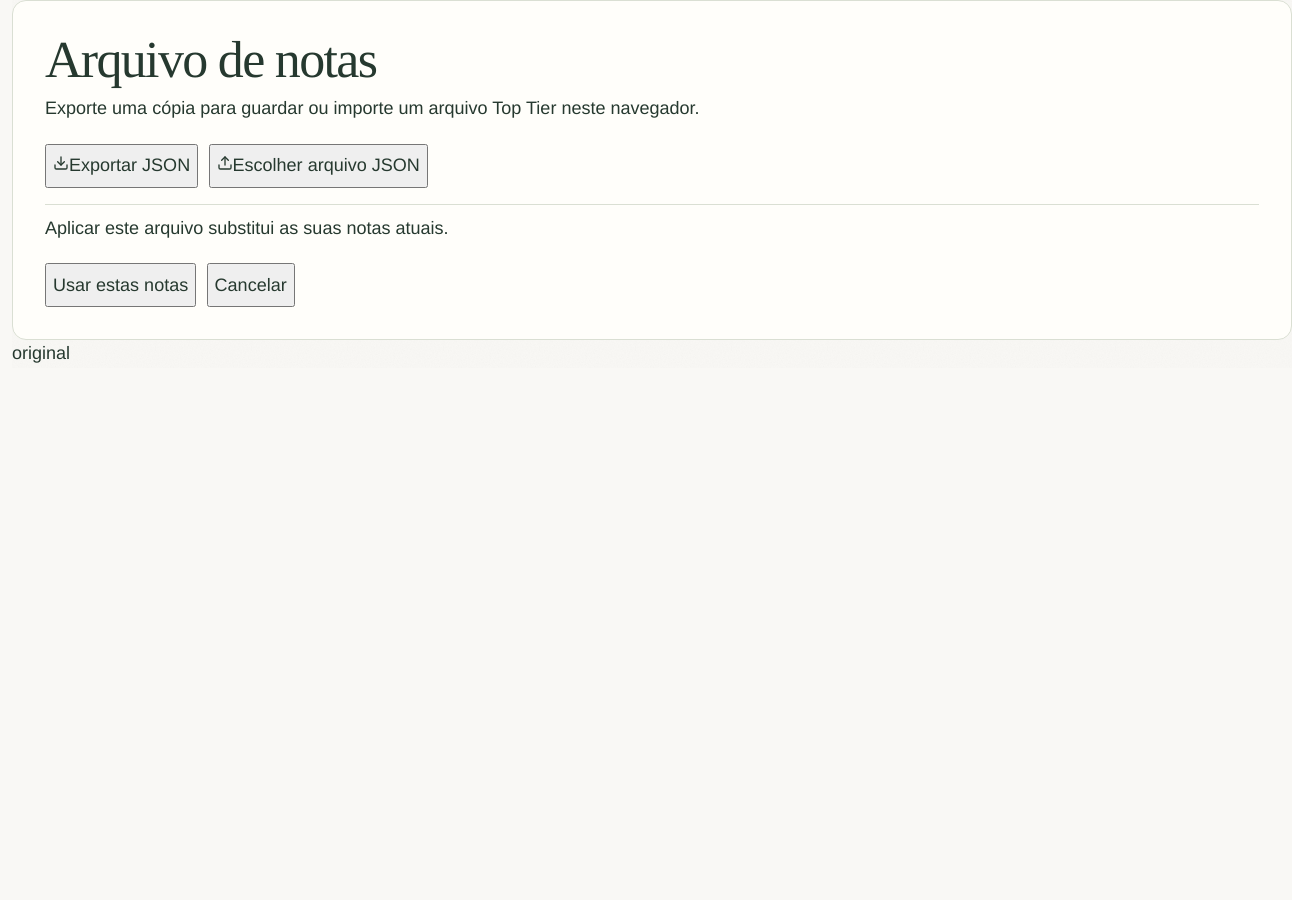
Test case: reading and importing a ranking › reviews imports and preserves saved scores on invalid files
Earlier steps of the test are not shown.
Later steps or results of the test are not shown.
Expected: the text with test id "personal-score" reads "original", [12, 342, 70, 364]
What coordinates should you click on to do the following:
click the button "Usar estas notas"
I would click on:
 (121, 285)
Its box is [45, 263, 196, 307].
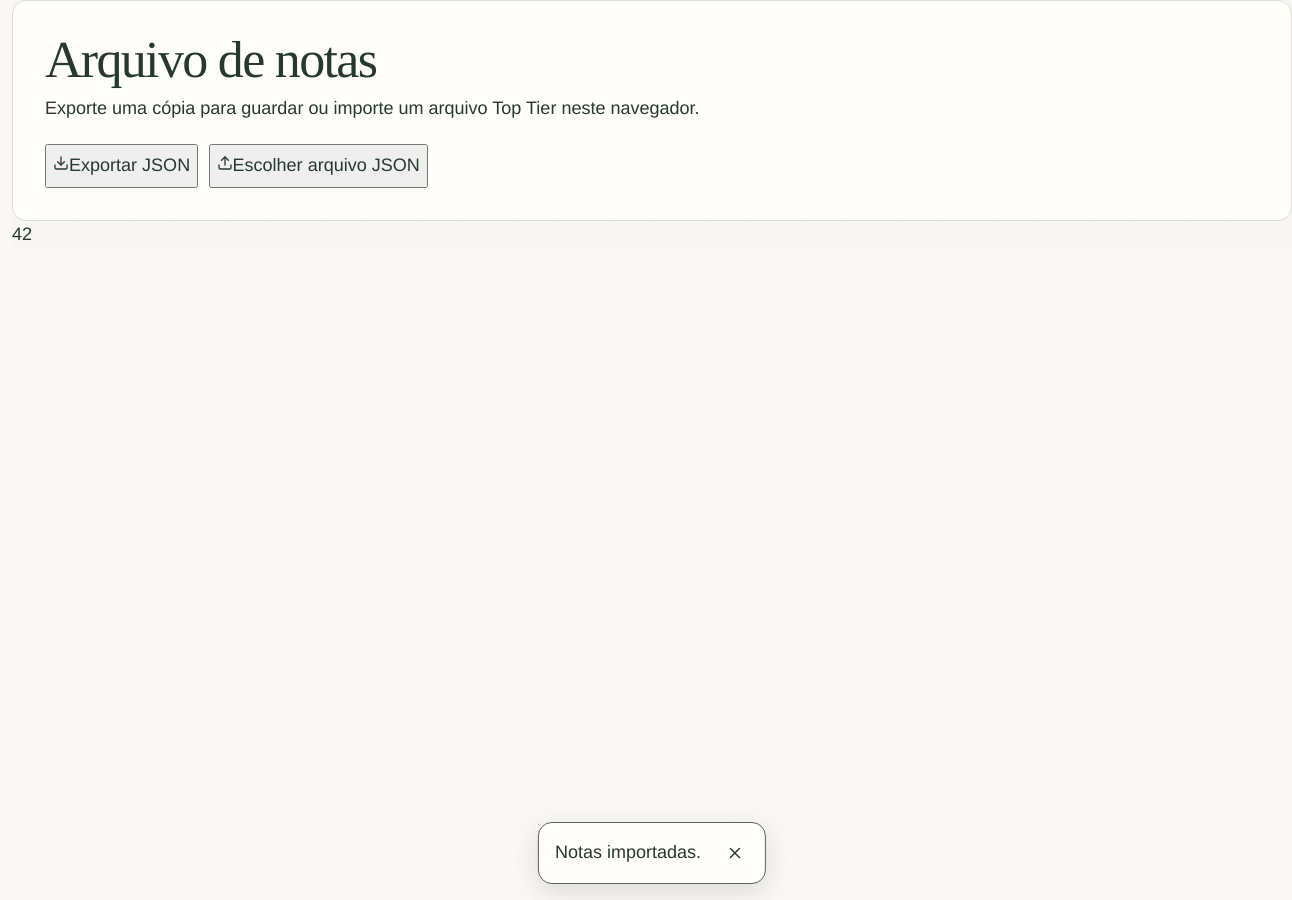
Expected: the text with test id "personal-score" reads "42", [12, 223, 32, 245]
